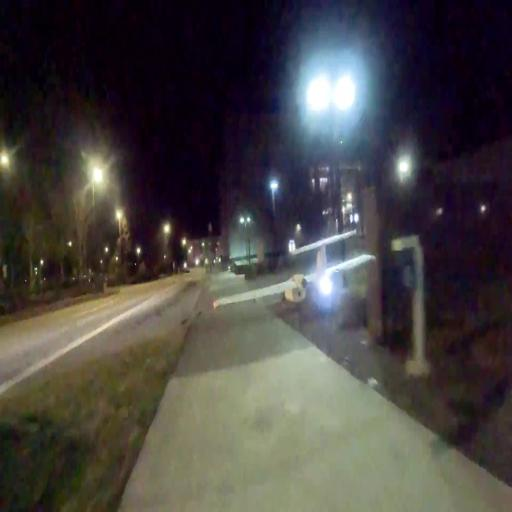uav: (212, 221, 378, 315)
